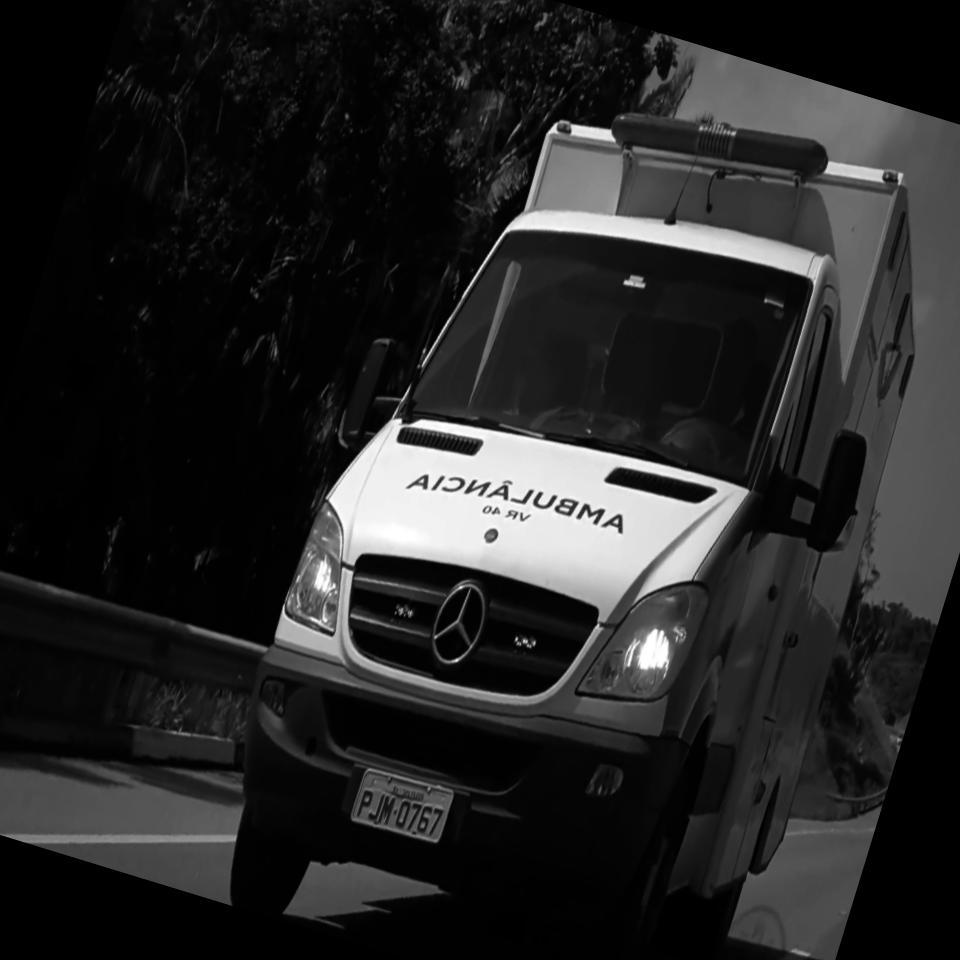bombeiro: (189, 27, 960, 960)
